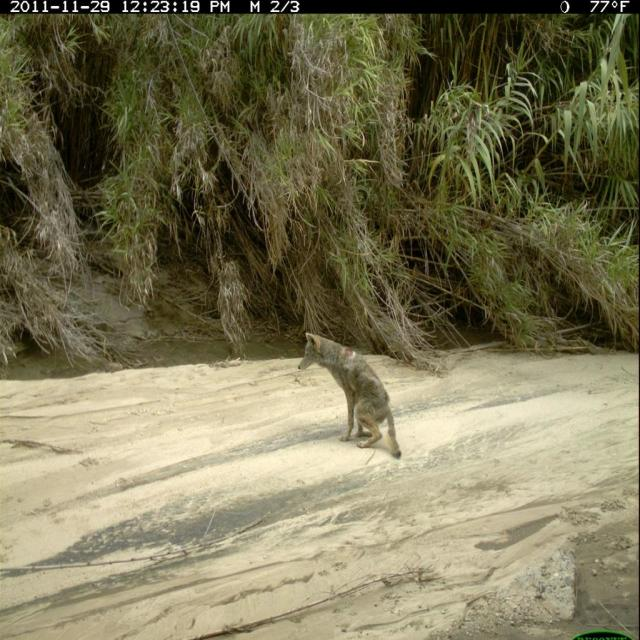coyote: (296, 328, 405, 464)
